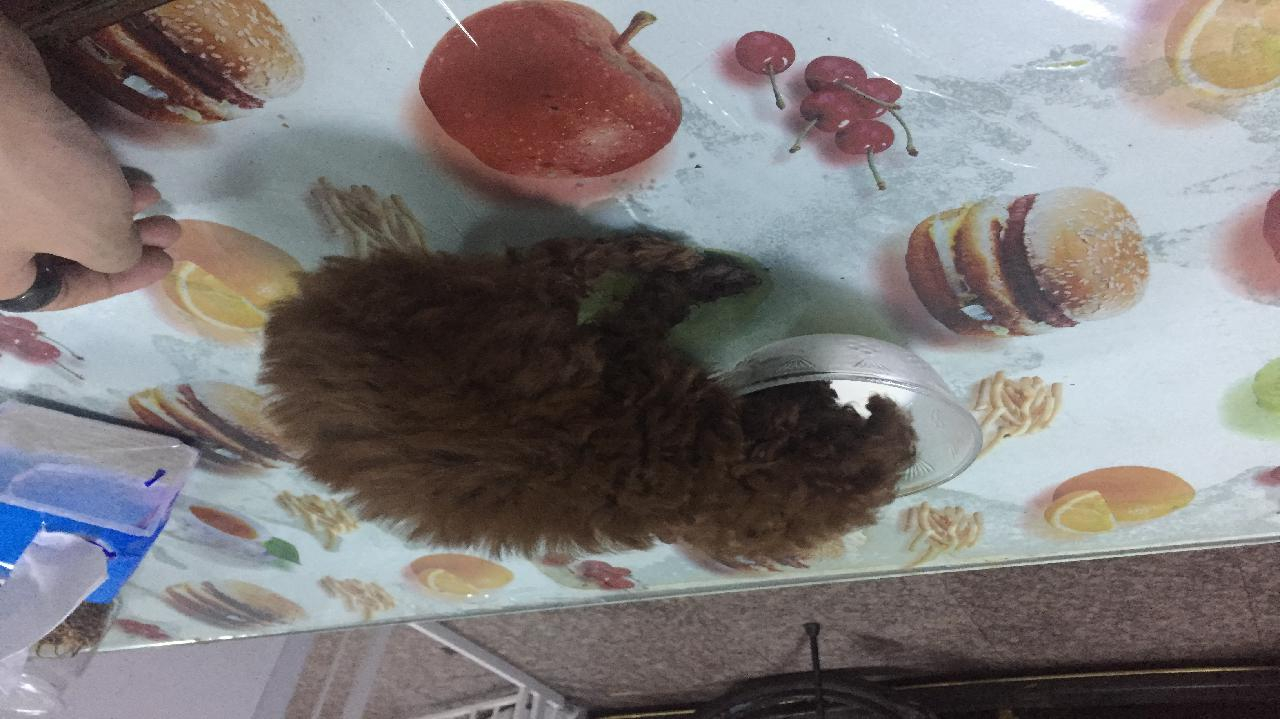coin: (259, 218, 917, 577)
